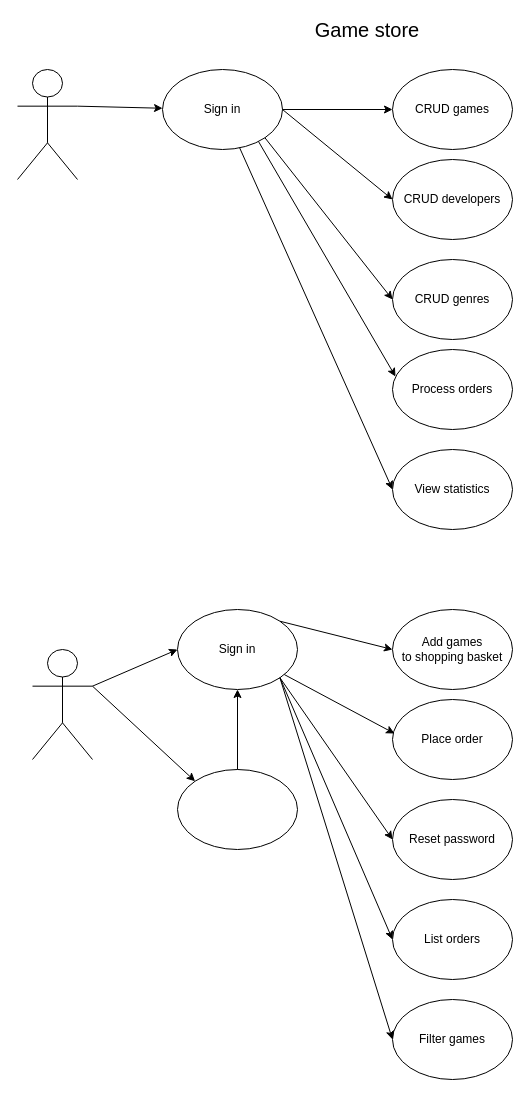
Some shapes in this 530 by 1097 pixel diagram are drawn without their labels. Each missing label, with the centre of its shape:
Admin: [47,124]
Sign up: [237,809]
User: [62,704]
